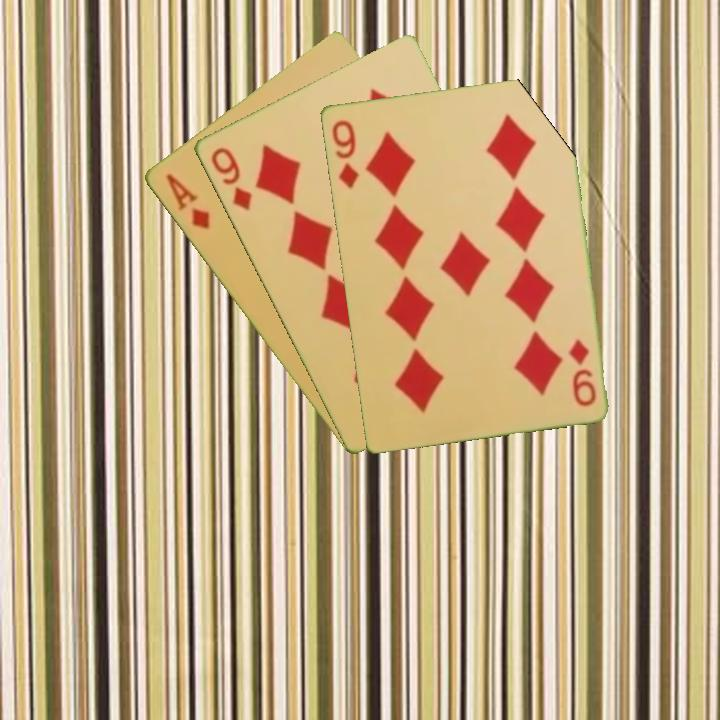9d: (207, 143, 255, 213), (564, 334, 599, 409), (328, 116, 362, 191)
Ad: (161, 170, 213, 232)
